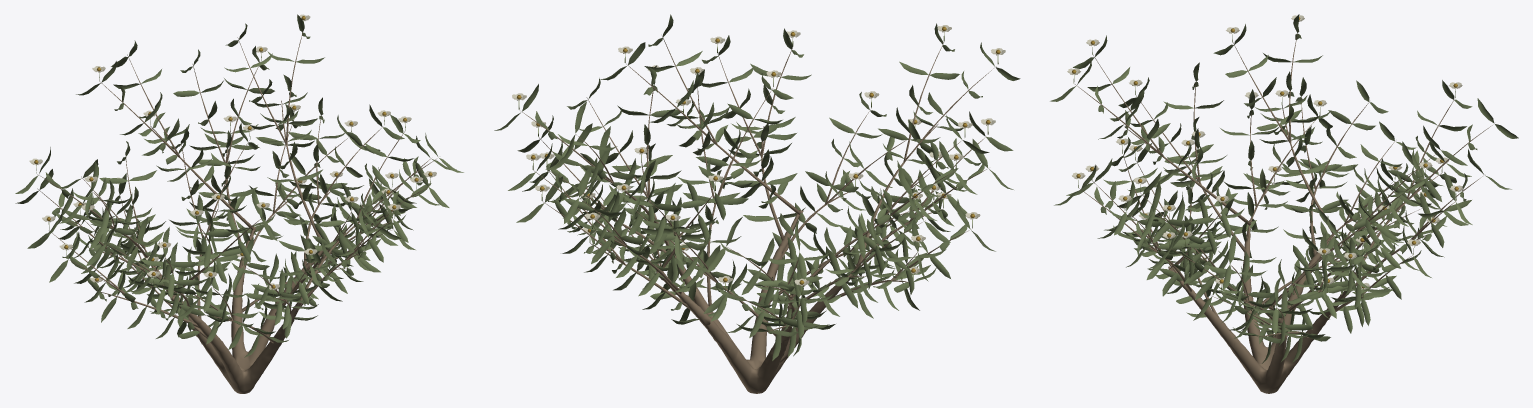
File: Ciste_0_Niveau0.fbx
The picture shows the model from 3 angles, left to right: view 1: azimuth 30°, elevation 25°; view 2: azimuth 150°, elevation 25°; view 3: azimuth 270°, elevation 25°; orthographic projection. The views are drawn at different scales.
Parts seen in each view (by area): view 1: Ciste_0_Niveau0_Jeu; view 2: Ciste_0_Niveau0_Jeu; view 3: Ciste_0_Niveau0_Jeu.
Part boxes in pixels (left/top/right/bottom): Ciste_0_Niveau0_Jeu: left=15, top=14, right=463, bottom=393; Ciste_0_Niveau0_Jeu: left=494, top=14, right=1020, bottom=393; Ciste_0_Niveau0_Jeu: left=1050, top=14, right=1518, bottom=393.
Size of the model in its own units: 79.12 by 55.24 by 76.78.
